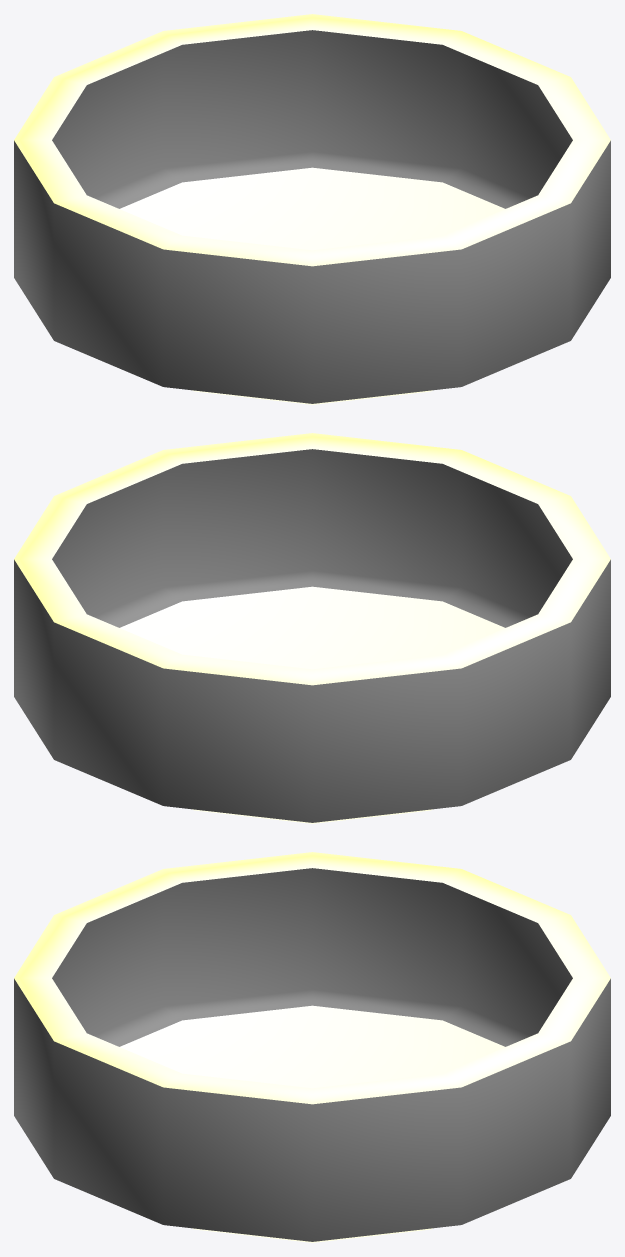
Rendered from LightCeiling_Single_Final.fbx.
The picture shows the model from 3 angles, top to bottom: view 1: azimuth 30°, elevation 25°; view 2: azimuth 150°, elevation 25°; view 3: azimuth 270°, elevation 25°; orthographic projection.
Visible parts, largest first — view 1: Ceiling_Single_Final; view 2: Ceiling_Single_Final; view 3: Ceiling_Single_Final.
Boxes of the visible parts, <box> form: Ceiling_Single_Final: <box>14,14,610,404</box>; Ceiling_Single_Final: <box>14,433,610,823</box>; Ceiling_Single_Final: <box>14,852,610,1242</box>.
Bounding box in the file's own units: 0.2291 × 0.0841 × 0.2291.
